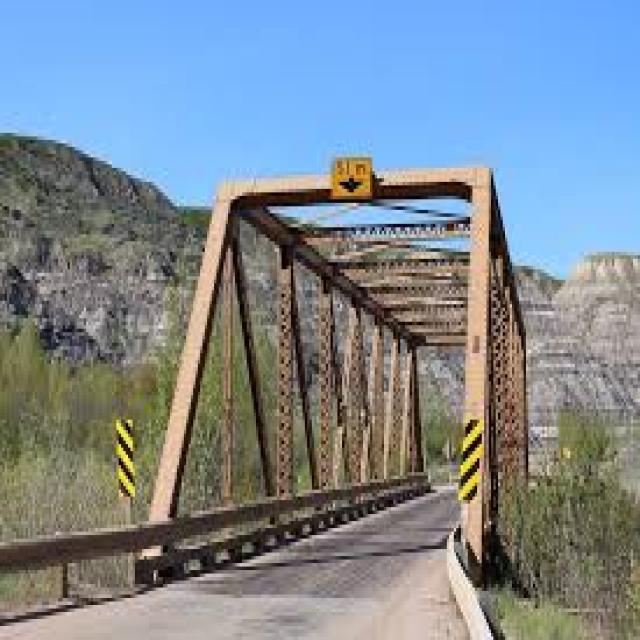Bridges: (133, 101, 539, 633)
